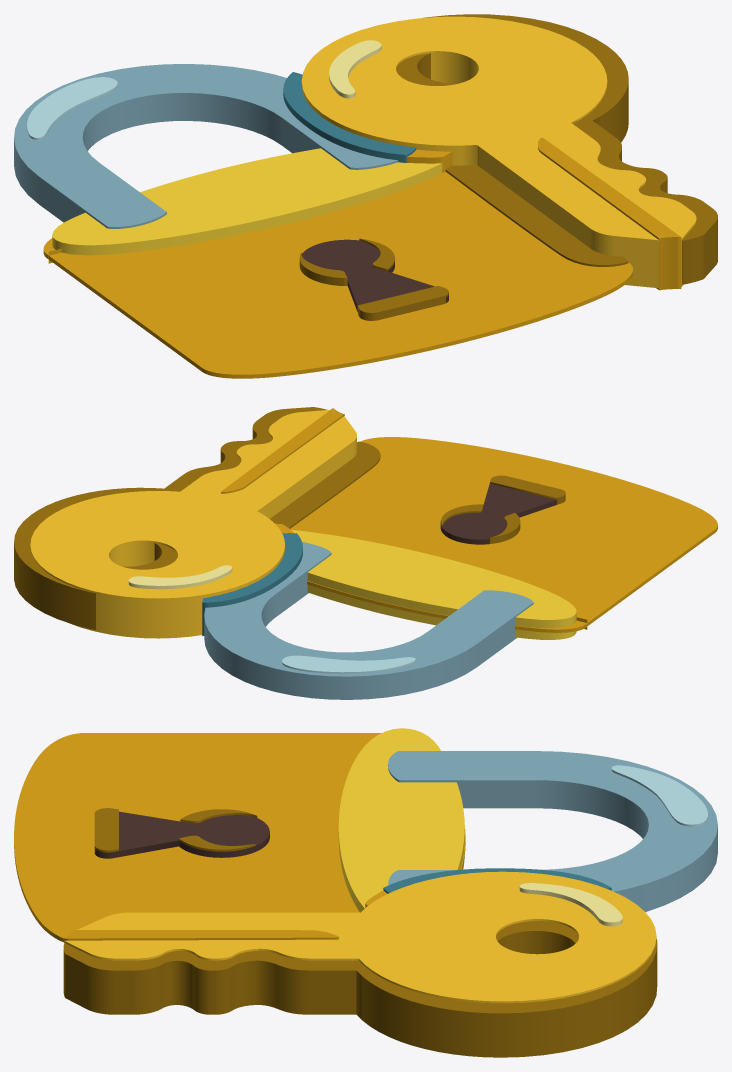
Rendered from emoji_u1f510.glb.
3 views of the same model, one above another, from view 1: azimuth 30°, elevation 25°; view 2: azimuth 150°, elevation 25°; view 3: azimuth 270°, elevation 25° (orthographic). The views are drawn at different scales.
Visible parts, largest first — view 1: emoji_u1f510; view 2: emoji_u1f510; view 3: emoji_u1f510.
Boxes of the visible parts, x1,y1,x2,y2 form: emoji_u1f510: (14, 14, 717, 378); emoji_u1f510: (14, 407, 717, 699); emoji_u1f510: (14, 728, 717, 1057).
Size of the model in its own units: 0.0321 by 0.0028 by 0.0317.
